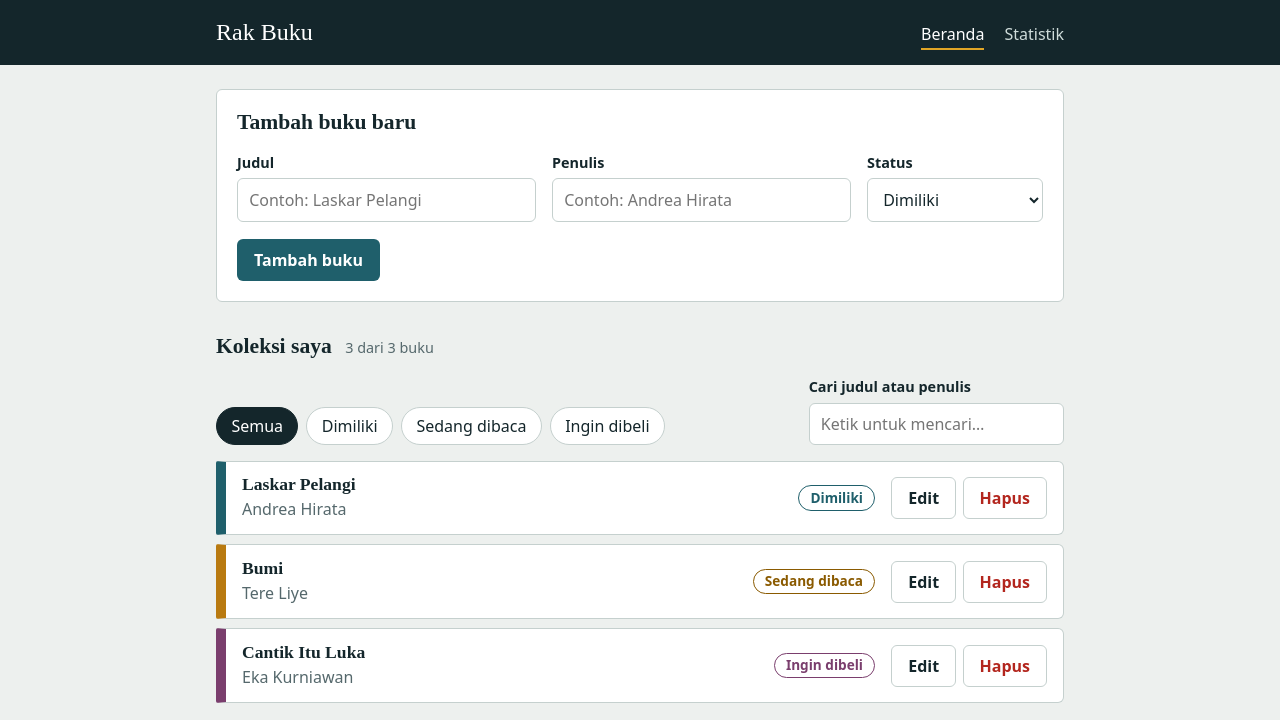
Test case: Aplikasi Manajemen Buku (integrasi) › mengedit buku yang sudah ada
This screenshot has width=1280, height=720.
Click the button with aria-label "Edit Bumi" at (924, 582), box [891,561,956,603]
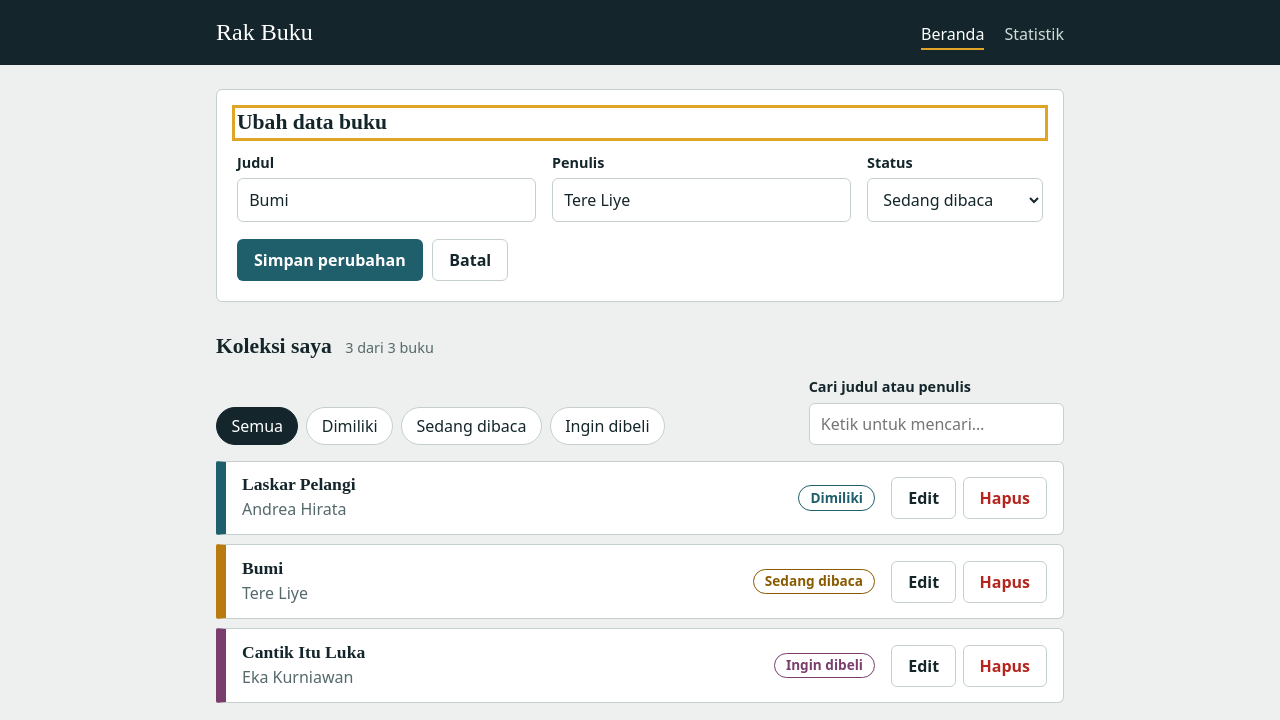
Replace the text in the field labelled "Judul" with "Bulan" at (386, 200), box [237,178,536,222]
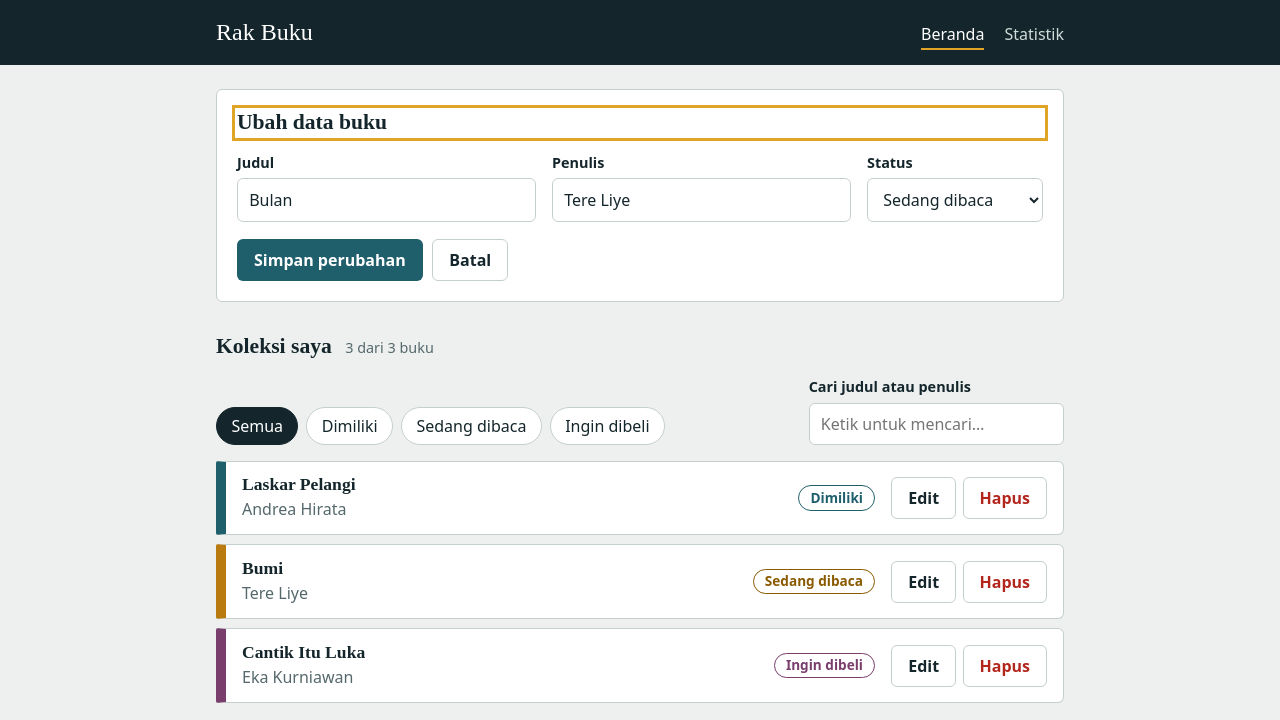
Click the button "Simpan perubahan" at (330, 260), box [237,239,423,281]
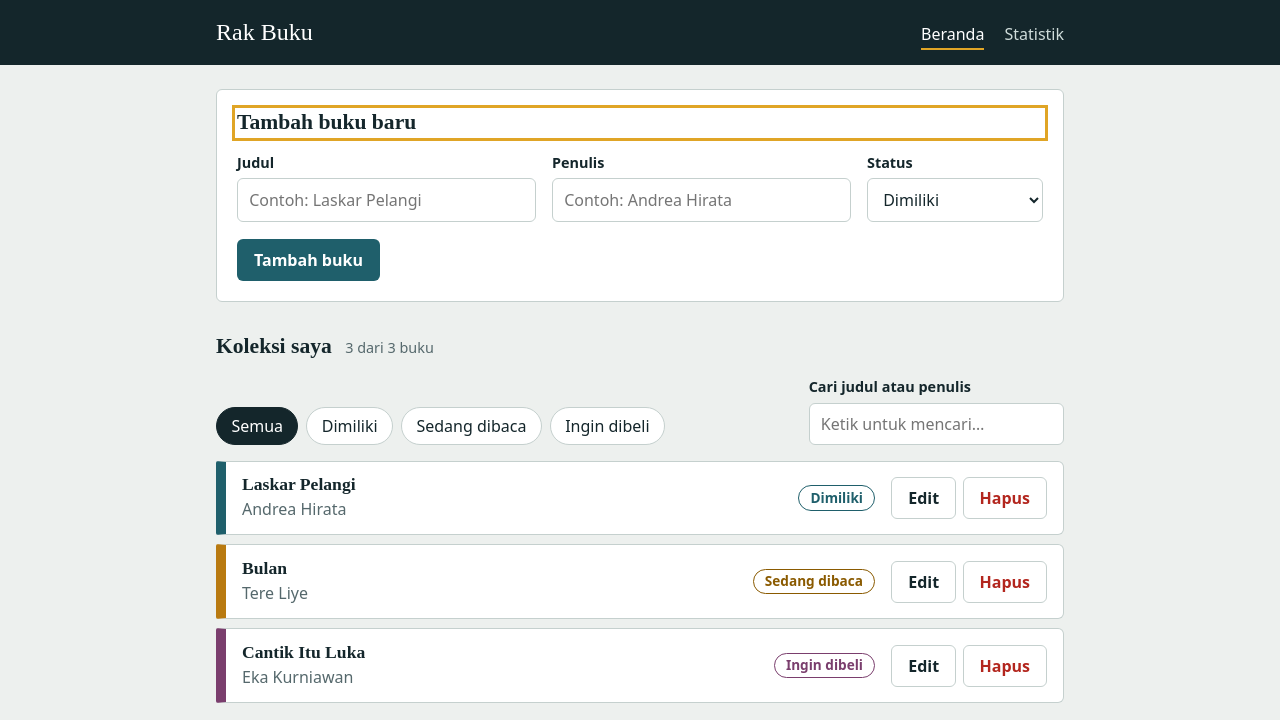
Expected: the heading "Bulan" is shown, [242,558,287,578]
Expected: the heading "Bumi" is gone
